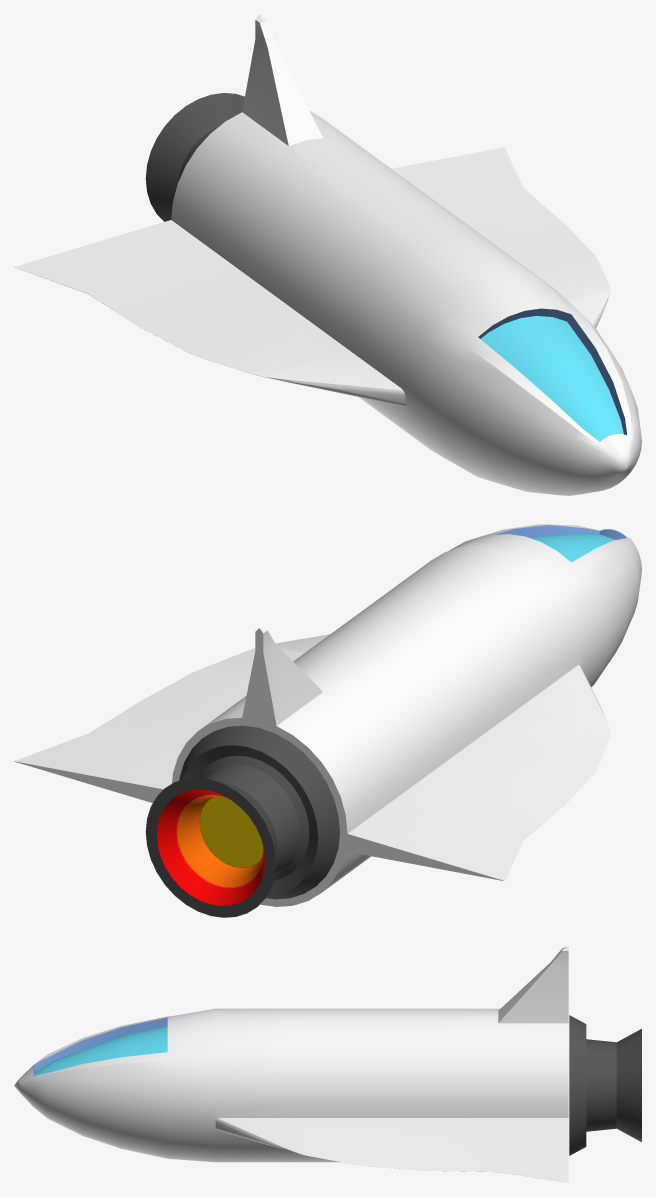
File: Spaceship.fbx
The picture shows the model from 3 angles, top to bottom: view 1: azimuth 30°, elevation 25°; view 2: azimuth 150°, elevation 25°; view 3: azimuth 270°, elevation 25°; orthographic projection. The views are drawn at different scales.
Parts seen in each view (by area): view 1: Spaceship, Engine; view 2: Spaceship, Engine; view 3: Spaceship, Engine.
Boxes of the visible parts, x1,y1,x2,y2 form: Spaceship: [14, 14, 641, 495]; Engine: [145, 93, 244, 221]; Spaceship: [14, 524, 641, 906]; Engine: [145, 725, 339, 917]; Spaceship: [14, 946, 568, 1182]; Engine: [569, 1015, 641, 1155].
Size of the model in its own units: 557 by 300 by 816.
